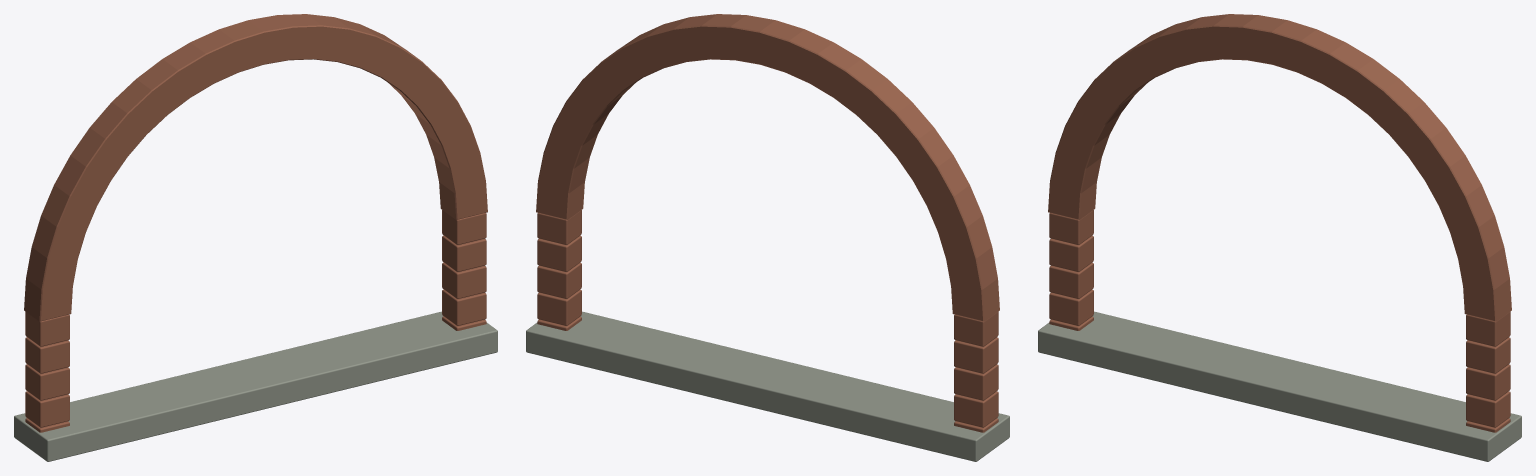
File: undercity-sewers-and-thieves-den-arch-portal-80f56f3d__25008.glb
3 views of the same model, side by side, from view 1: azimuth 30°, elevation 25°; view 2: azimuth 150°, elevation 25°; view 3: azimuth 330°, elevation 25° (orthographic).
Parts seen in each view (by area): view 1: arch-portal; view 2: arch-portal; view 3: arch-portal.
Part boxes in pixels (x1,y1,x2,y2): arch-portal: (14,14,497,461); arch-portal: (526,14,1009,461); arch-portal: (1038,14,1521,461).
Bounding box in the file's own units: 4.2 × 3.29 × 0.5501.
